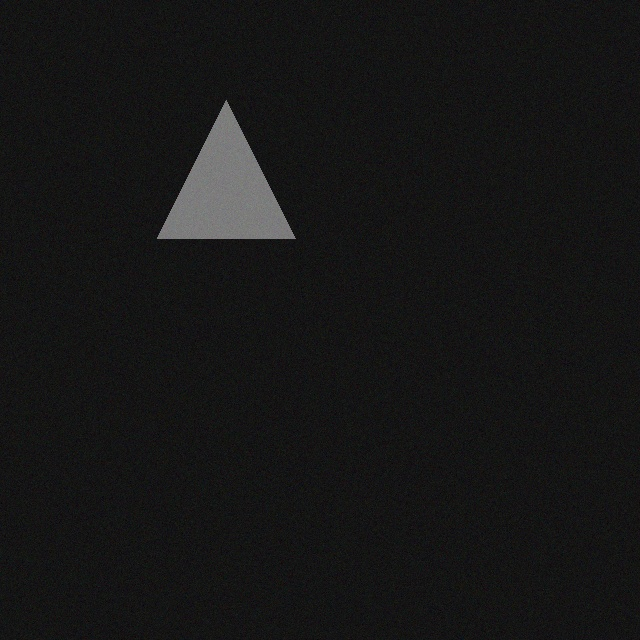triangle: (146, 93, 284, 231)
